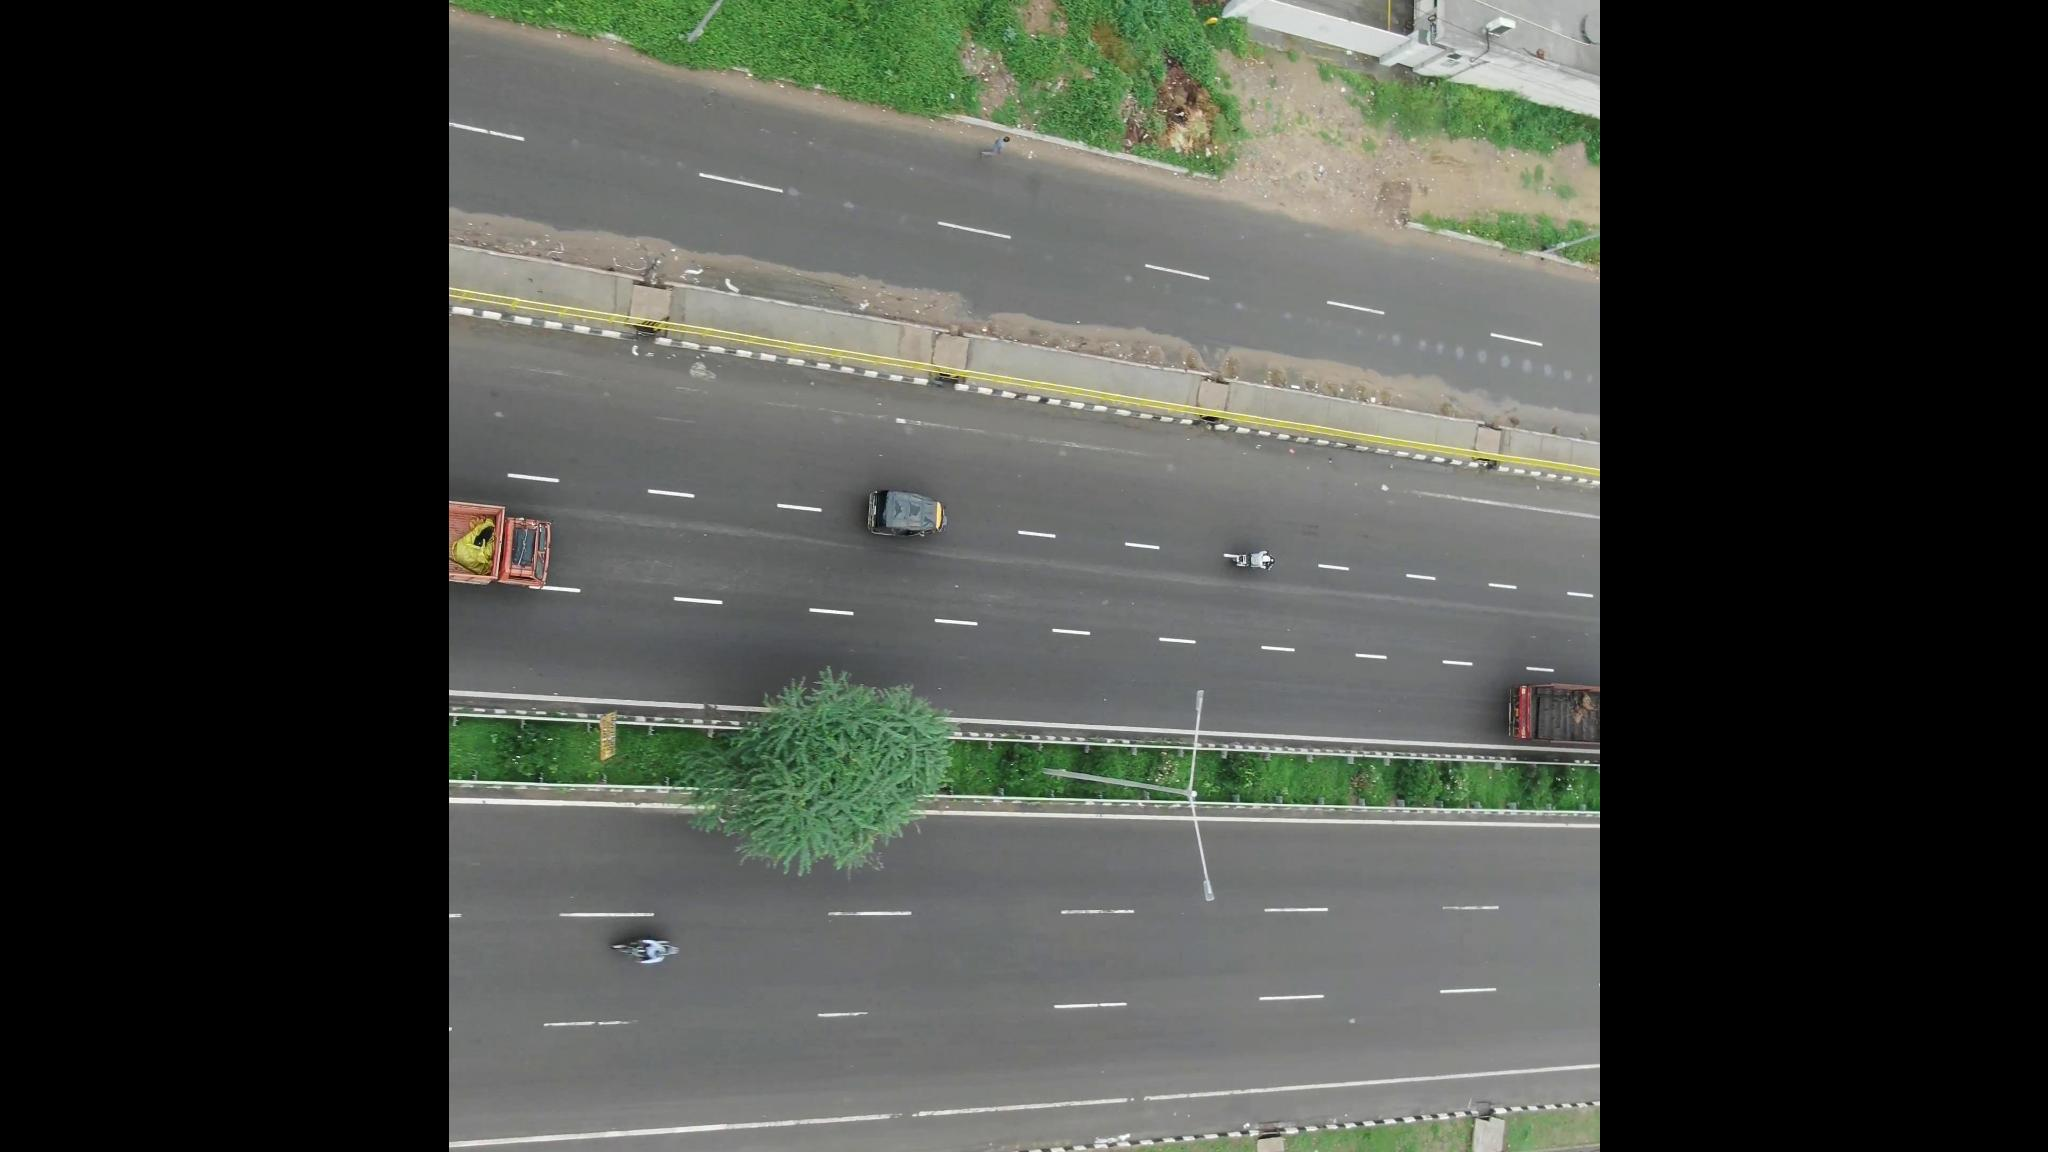Potholes: (1339, 312, 1492, 369), (791, 181, 928, 241), (1132, 269, 1267, 321), (1454, 332, 1564, 383)
